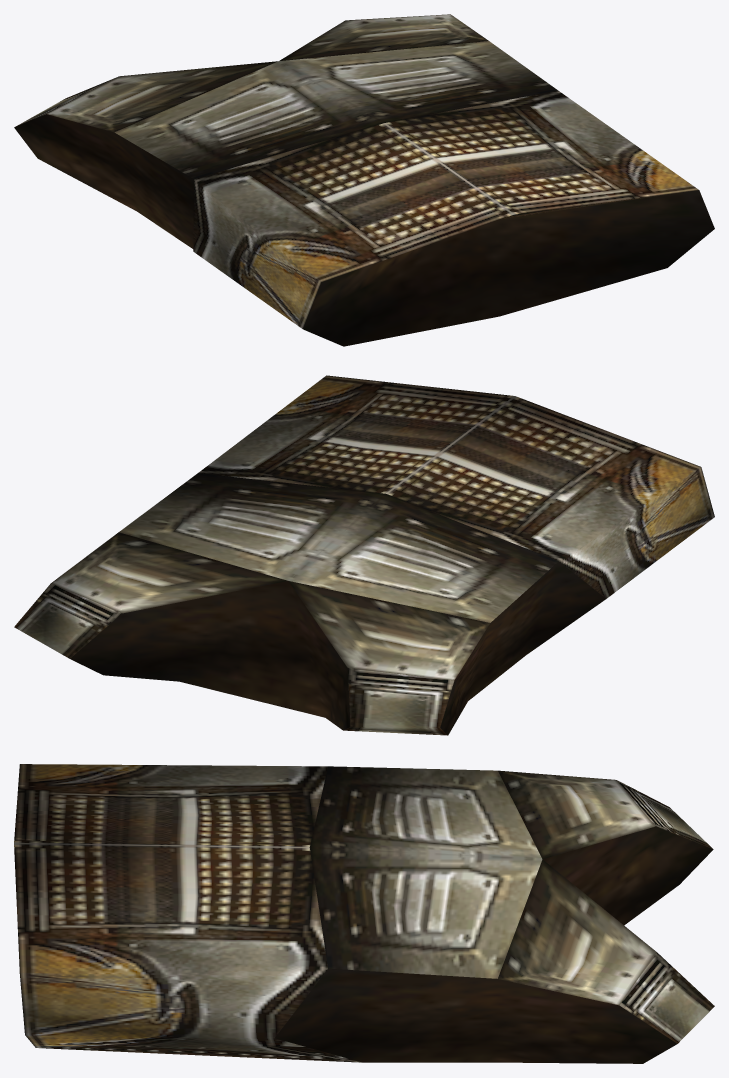
The model's file is TorsoArmour4__CMG.glb.
The picture shows the model from 3 angles, top to bottom: view 1: azimuth 30°, elevation 25°; view 2: azimuth 150°, elevation 25°; view 3: azimuth 270°, elevation 25°; orthographic projection. The views are drawn at different scales.
Visible parts, largest first — view 1: TorsoArmour4; view 2: TorsoArmour4; view 3: TorsoArmour4.
Boxes of the visible parts, <box> form: TorsoArmour4: <box>14,14,714,346</box>; TorsoArmour4: <box>14,375,714,735</box>; TorsoArmour4: <box>14,764,714,1063</box>.
Size of the model in its own units: 20.19 by 5.52 by 25.26.
1 material, 1 textured.
